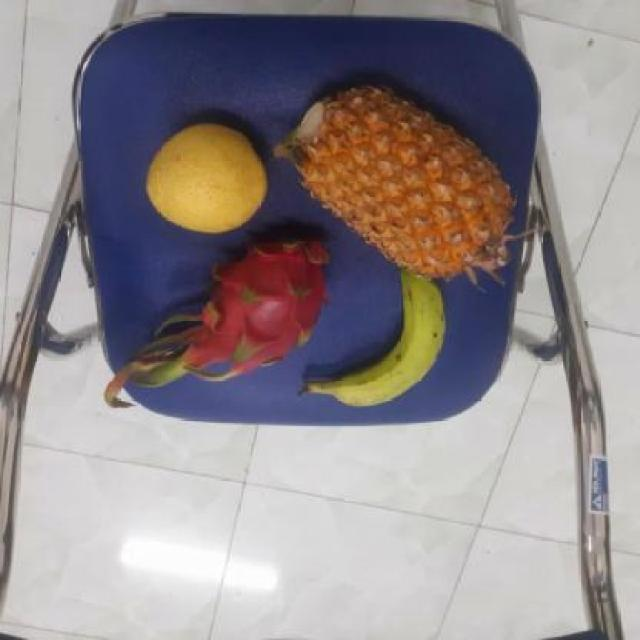banana: (315, 269, 454, 413)
dragon fruit: (186, 226, 336, 376)
pear: (143, 118, 277, 230)
pineapple: (290, 82, 518, 280)
